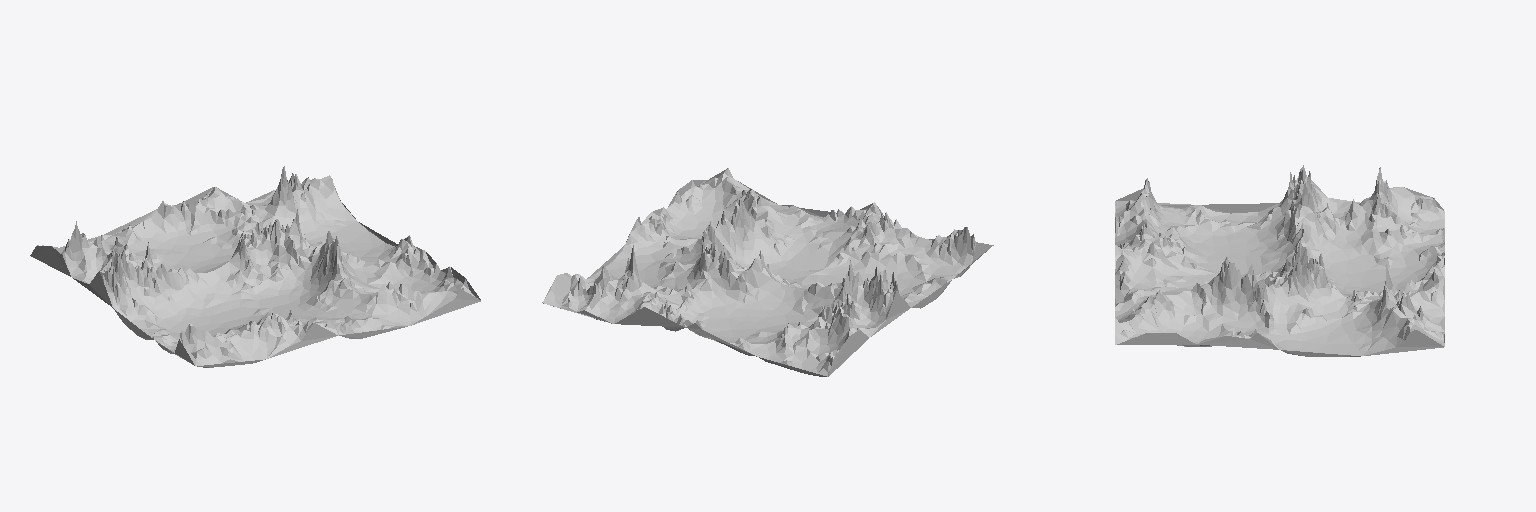
File: mountains.obj
3 views of the same model, side by side, from view 1: azimuth 30°, elevation 25°; view 2: azimuth 150°, elevation 25°; view 3: azimuth 270°, elevation 25° (orthographic).
Parts seen in each view (by area): view 1: map; view 2: map; view 3: map.
Part boxes in pixels (x1,y1,x2,y2): map: (30,166,480,367); map: (542,168,993,376); map: (1115,165,1444,356).
Size of the model in its own units: 160 by 34.19 by 160.